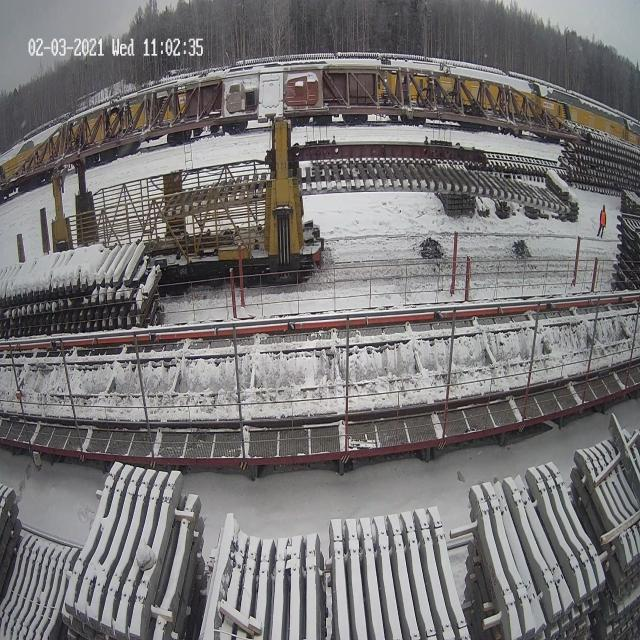Person: (596, 204, 606, 238)
